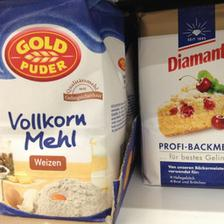Mehl: (0, 0, 128, 220), (138, 6, 222, 186)
